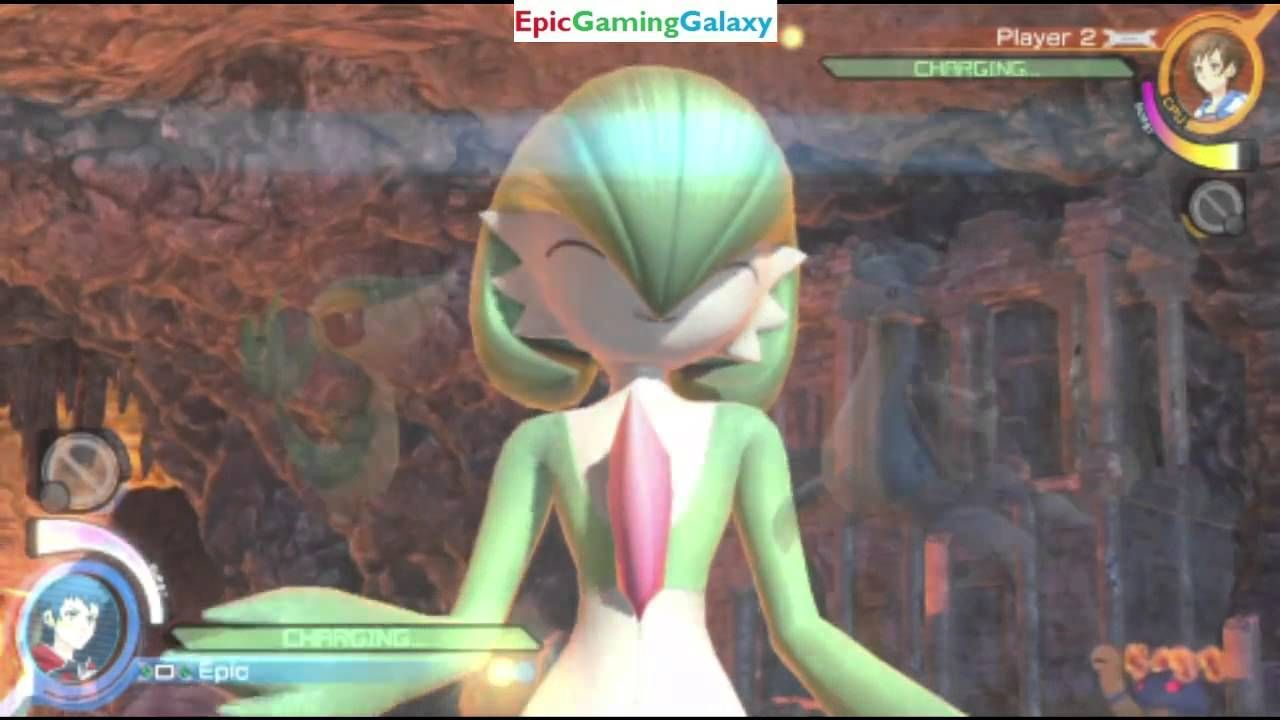gardevoir: (171, 75, 980, 720)
